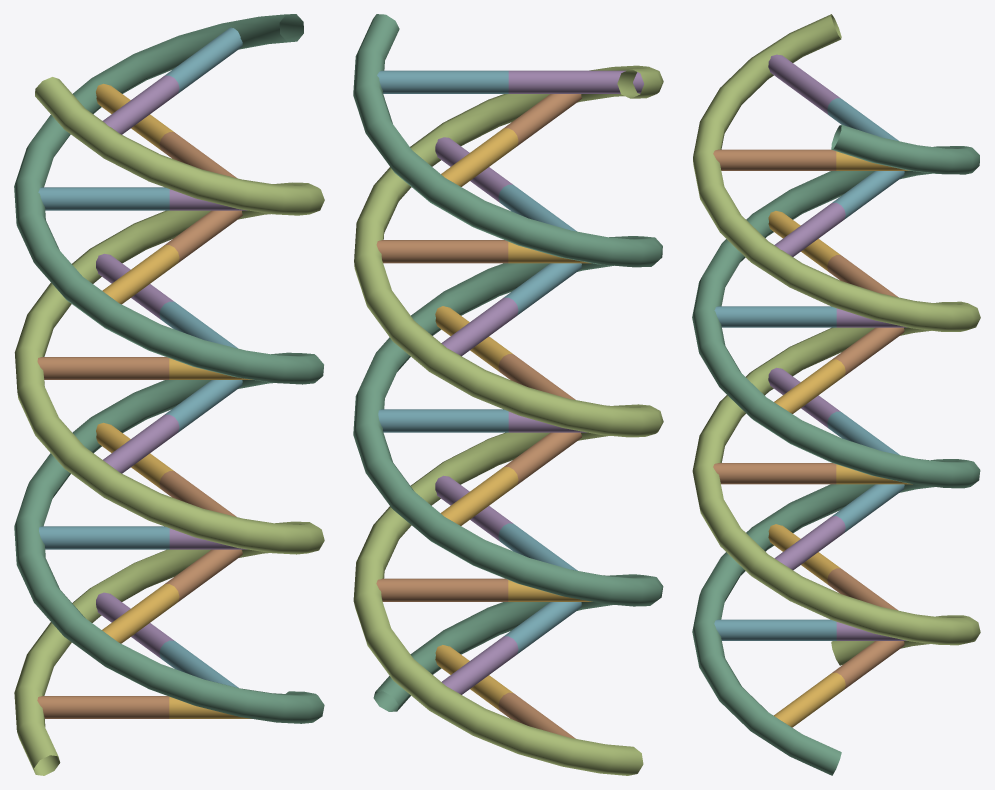
Rendered from dna.glb.
The picture shows the model from 3 angles, left to right: view 1: azimuth 30°, elevation 25°; view 2: azimuth 150°, elevation 25°; view 3: azimuth 270°, elevation 25°; orthographic projection. The views are drawn at different scales.
Parts seen in each view (by area): view 1: backbone-a-mesh-0, backbone-b-mesh-0, cytosine-mesh-3, cytosine-mesh-1, thymine-mesh-3, thymine-mesh-0, adenine-mesh-1, cytosine-mesh-4, adenine-mesh-4, guanine-mesh-4, base-pair-mesh-1, thymine-mesh-4 (+14 smaller); view 2: backbone-b-mesh-0, backbone-a-mesh-0, thymine-mesh-1, thymine-mesh-4, cytosine-mesh-4, base-pair-mesh-0, guanine-mesh-4, adenine-mesh-2, adenine-mesh-5, guanine-mesh-2, guanine-mesh-0, thymine-mesh-2 (+14 smaller); view 3: backbone-b-mesh-0, backbone-a-mesh-0, thymine-mesh-2, thymine-mesh-5, cytosine-mesh-0, cytosine-mesh-2, guanine-mesh-4, adenine-mesh-0, adenine-mesh-3, guanine-mesh-3, guanine-mesh-1, thymine-mesh-3 (+14 smaller).
Part boxes in pixels (box(x1,y1,x2,y2)): backbone-a-mesh-0: box(14, 14, 324, 723); backbone-b-mesh-0: box(14, 77, 324, 775); cytosine-mesh-3: box(38, 187, 169, 210); cytosine-mesh-1: box(39, 526, 169, 549); thymine-mesh-3: box(37, 357, 169, 379); thymine-mesh-0: box(37, 696, 169, 718); adenine-mesh-1: box(102, 584, 179, 643); cytosine-mesh-4: box(165, 27, 242, 93); adenine-mesh-4: box(102, 245, 179, 304); guanine-mesh-4: box(103, 75, 179, 134); base-pair-mesh-1: box(103, 414, 179, 473); thymine-mesh-4: box(164, 210, 242, 263); backbone-b-mesh-0: box(353, 65, 663, 775); backbone-a-mesh-0: box(353, 14, 663, 711); thymine-mesh-1: box(376, 578, 508, 601); thymine-mesh-4: box(376, 240, 508, 263); cytosine-mesh-4: box(377, 70, 508, 93); base-pair-mesh-0: box(378, 409, 508, 432); guanine-mesh-4: box(508, 70, 643, 93); adenine-mesh-2: box(440, 467, 518, 525); adenine-mesh-5: box(441, 128, 518, 186); guanine-mesh-2: box(441, 297, 518, 356); guanine-mesh-0: box(442, 636, 518, 694); thymine-mesh-2: box(504, 432, 581, 485); backbone-b-mesh-0: box(692, 14, 980, 665); backbone-a-mesh-0: box(692, 124, 980, 775); thymine-mesh-2: box(713, 463, 836, 484); thymine-mesh-5: box(713, 149, 836, 170); cytosine-mesh-0: box(714, 619, 836, 640); cytosine-mesh-2: box(714, 306, 836, 327); guanine-mesh-4: box(768, 54, 840, 114); adenine-mesh-0: box(774, 672, 845, 727); adenine-mesh-3: box(774, 359, 845, 413); guanine-mesh-3: box(774, 202, 845, 256); guanine-mesh-1: box(774, 516, 845, 570); thymine-mesh-3: box(832, 327, 904, 376).
Size of the model in its own units: 3.76 by 9.33 by 3.76.
